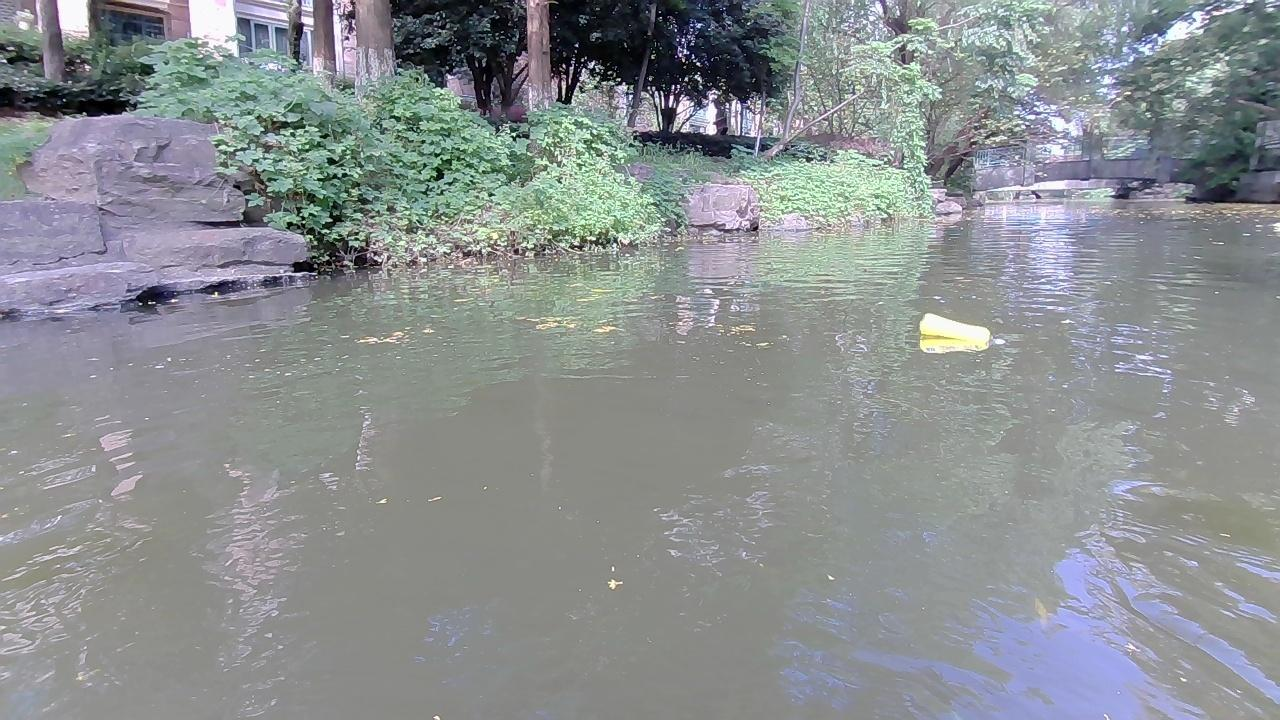bottle: (916, 311, 1007, 348)
